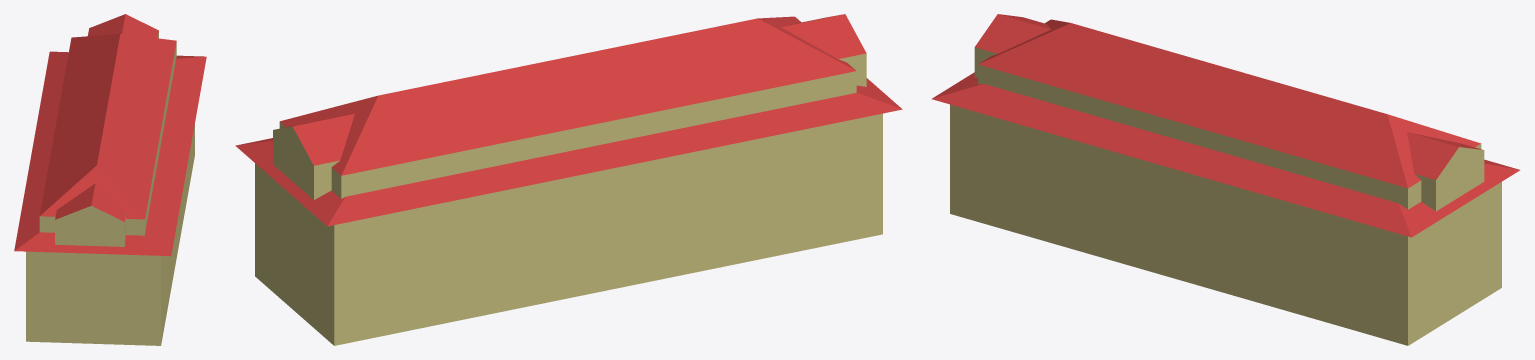
3 renders of one model, left to right at view 1: azimuth 30°, elevation 25°; view 2: azimuth 150°, elevation 25°; view 3: azimuth 270°, elevation 25°, orthographic. The views are drawn at different scales.
Parts seen in each view (by area): view 1: group_4, group_9, group_3, group_8, group_7, group_6, group_5; view 2: group_9, group_4, group_3, group_5, group_6, group_7, group_8; view 3: group_9, group_4, group_3, group_5, group_6, group_7, group_8.
Part boxes in pixels (x1=…): group_4: x1=39, y1=34, x2=176, y2=219; group_9: x1=26, y1=124, x2=194, y2=345; group_3: x1=14, y1=51, x2=206, y2=256; group_8: x1=14, y1=52, x2=206, y2=255; group_7: x1=55, y1=31, x2=158, y2=246; group_6: x1=55, y1=14, x2=158, y2=221; group_5: x1=39, y1=42, x2=176, y2=235; group_9: x1=255, y1=113, x2=882, y2=345; group_4: x1=280, y1=16, x2=855, y2=175; group_3: x1=235, y1=85, x2=901, y2=226; group_5: x1=279, y1=71, x2=856, y2=198; group_6: x1=280, y1=14, x2=866, y2=165; group_7: x1=273, y1=53, x2=866, y2=199; group_8: x1=236, y1=78, x2=902, y2=224; group_9: x1=950, y1=104, x2=1501, y2=345; group_4: x1=978, y1=19, x2=1480, y2=188; group_3: x1=932, y1=77, x2=1520, y2=237; group_5: x1=978, y1=64, x2=1481, y2=209; group_6: x1=975, y1=14, x2=1482, y2=179; group_7: x1=974, y1=47, x2=1484, y2=211; group_8: x1=932, y1=72, x2=1515, y2=236.
Size of the model in its own units: 35.94 by 43.45 by 14.8.
